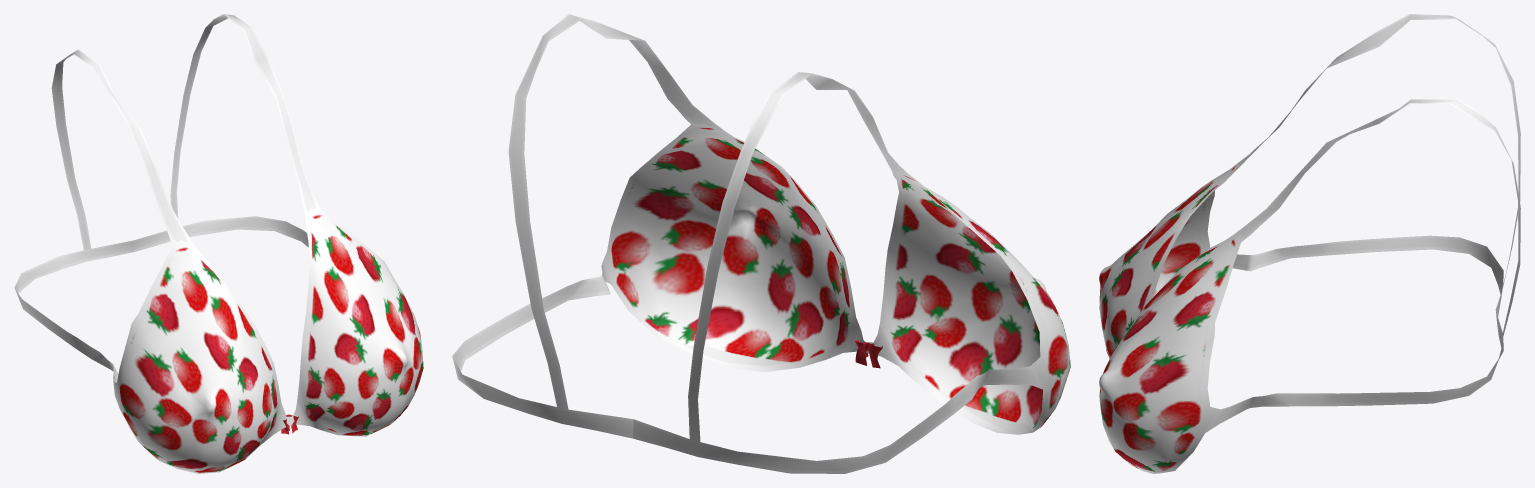
The model's file is Bra 1.fbx.
3 renders of one model, left to right at view 1: azimuth 30°, elevation 25°; view 2: azimuth 150°, elevation 25°; view 3: azimuth 270°, elevation 25°, orthographic. The views are drawn at different scales.
Visible parts, largest first — view 1: Bra_mesh; view 2: Bra_mesh; view 3: Bra_mesh.
Part boxes in pixels (x1,y1,x2,y2): Bra_mesh: [14, 14, 423, 473]; Bra_mesh: [452, 14, 1070, 473]; Bra_mesh: [1099, 14, 1520, 473].
Bounding box in the file's own units: 23 × 24.22 × 25.44.
Materials: 1 (1 with a texture image).
